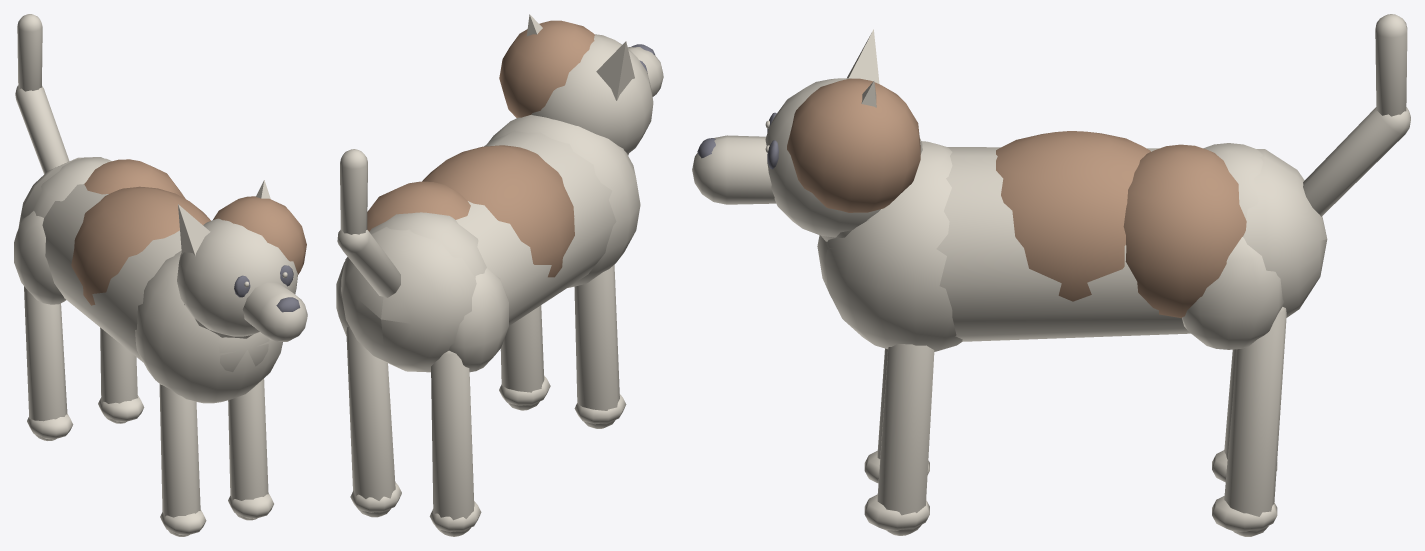
The model's file is dog-terrier.glb.
The picture shows the model from 3 angles, left to right: view 1: azimuth 30°, elevation 25°; view 2: azimuth 150°, elevation 25°; view 3: azimuth 270°, elevation 25°; orthographic projection. The views are drawn at different scales.
Parts seen in each view (by area): view 1: dog-terrier; view 2: dog-terrier; view 3: dog-terrier.
Part boxes in pixels (x1,y1,x2,y2): dog-terrier: [14, 14, 307, 536]; dog-terrier: [336, 14, 663, 536]; dog-terrier: [692, 14, 1410, 536].
Bounding box in the file's own units: 0.1903 × 0.4726 × 0.6202.
